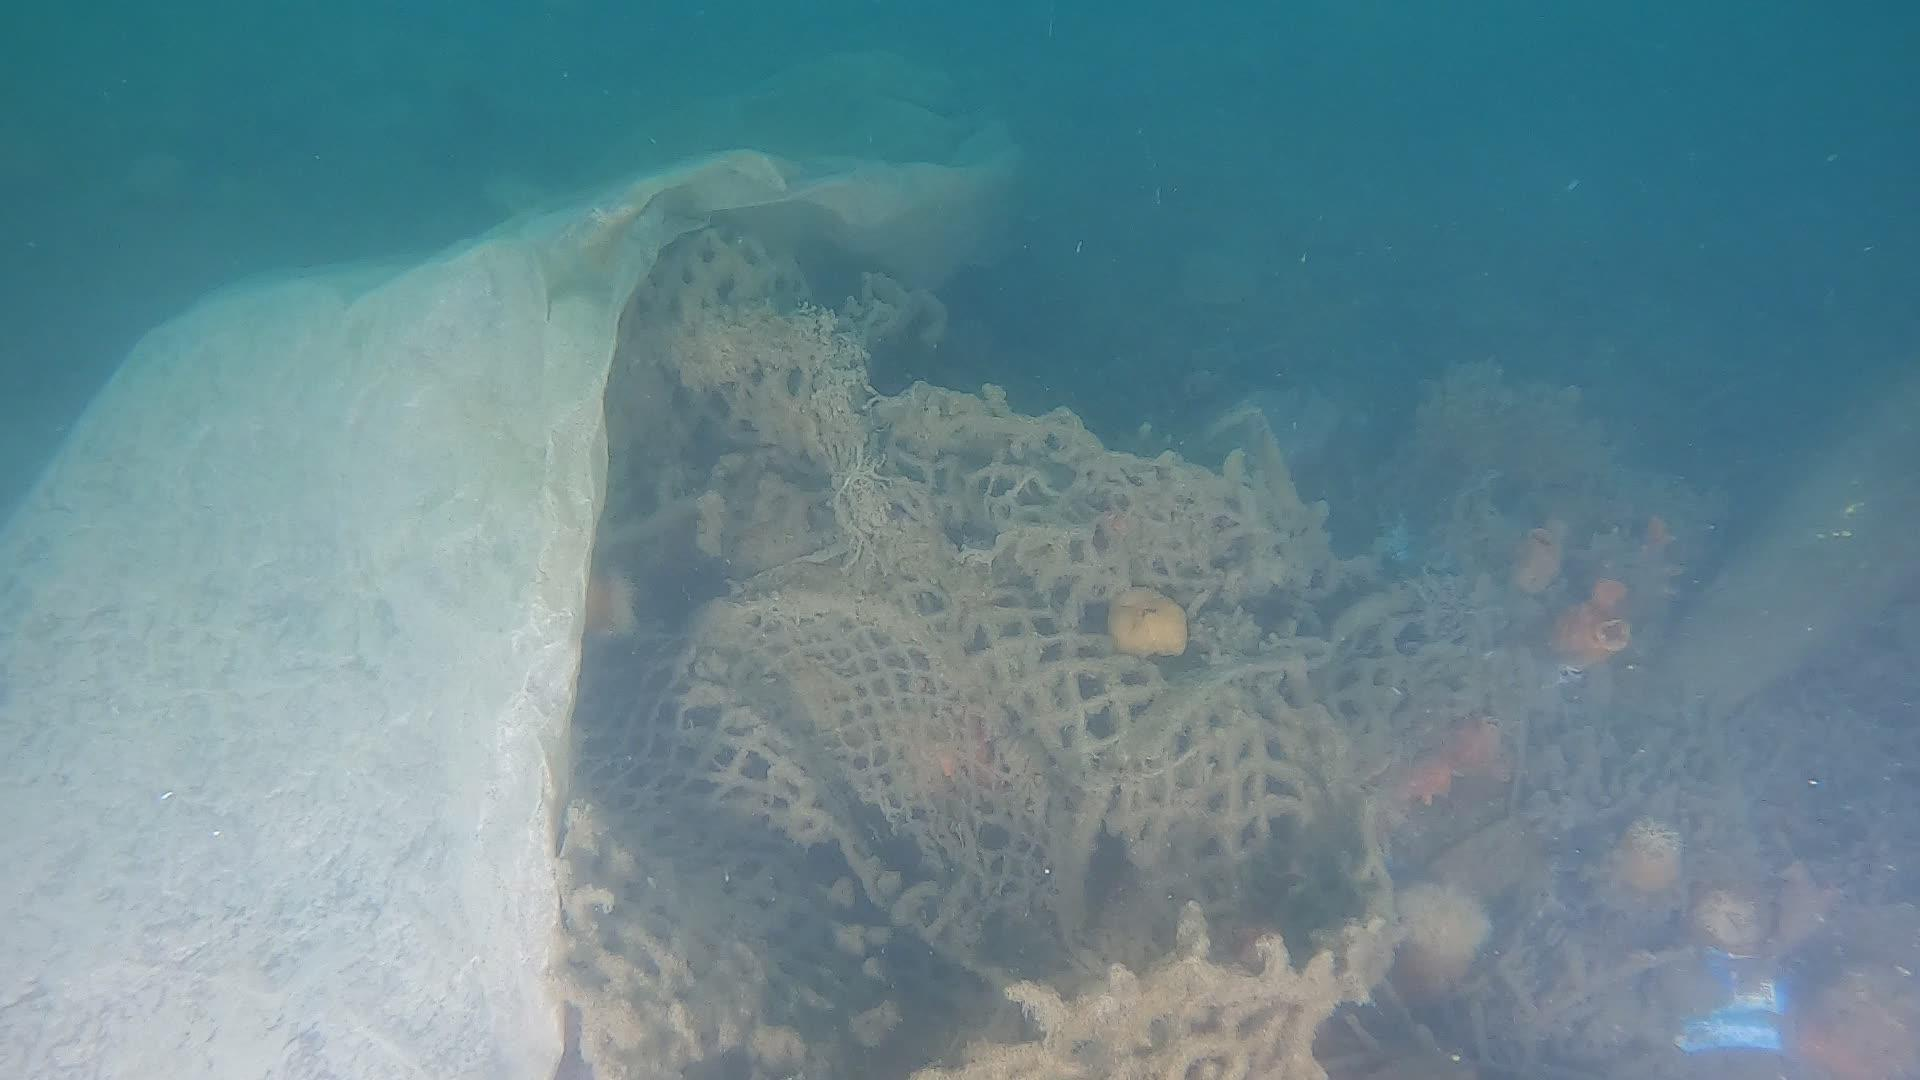fish net: (554, 222, 1338, 1055)
